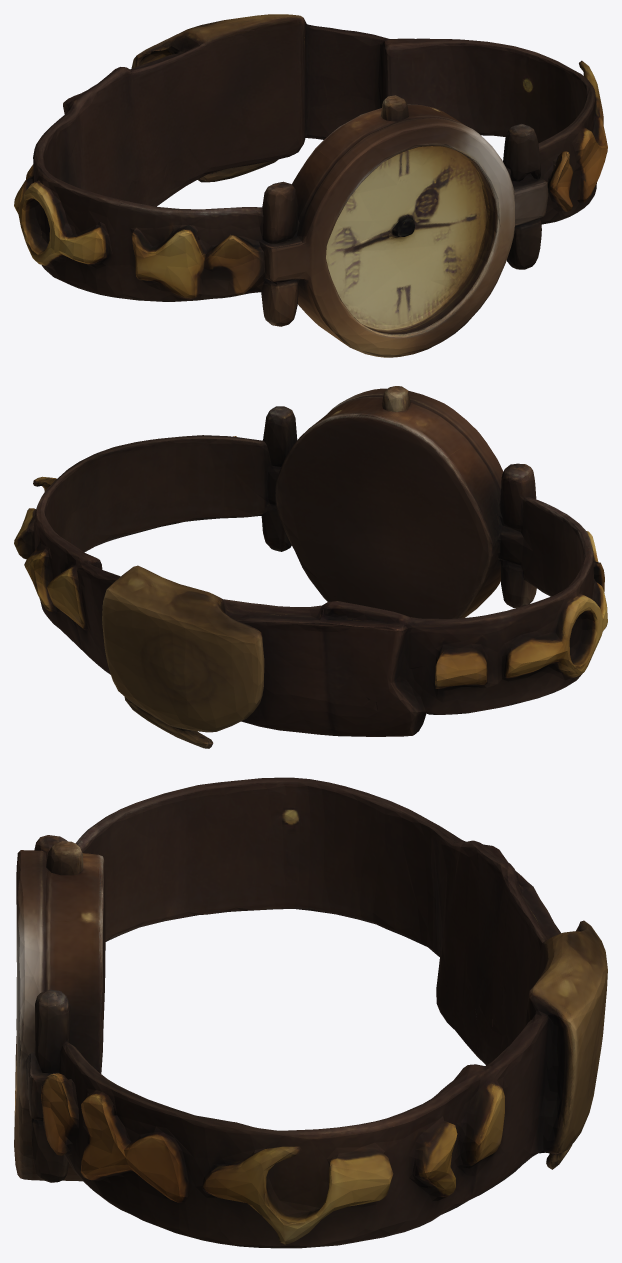
The model's file is watch.glb.
3 renders of one model, top to bottom at view 1: azimuth 30°, elevation 25°; view 2: azimuth 150°, elevation 25°; view 3: azimuth 270°, elevation 25°, orthographic. The views are drawn at different scales.
Visible parts, largest first — view 1: world; view 2: world; view 3: world.
Part boxes in pixels (x1=…): world: x1=14, y1=14, x2=607, y2=357; world: x1=14, y1=386, x2=607, y2=748; world: x1=14, y1=777, x2=607, y2=1248.
Bounding box in the file's own units: 0.9993 × 0.4259 × 0.7077.
1 material, 1 textured.
